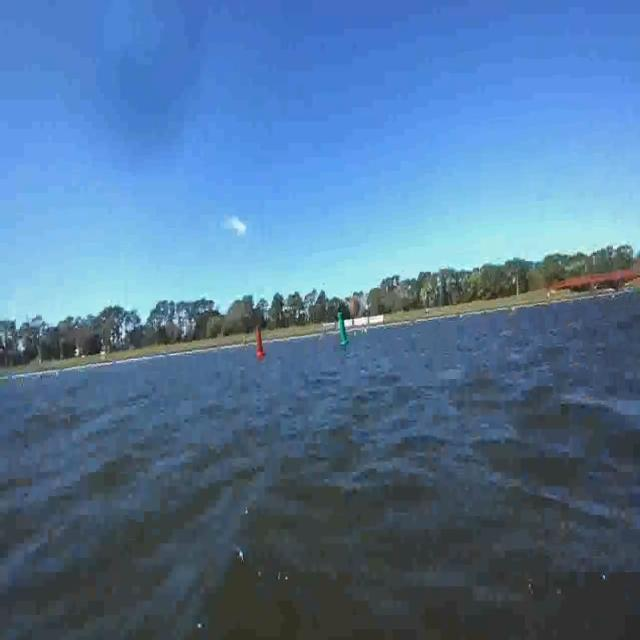green-column-buoy: (338, 314, 351, 349)
red-column-buoy: (254, 327, 264, 357)
